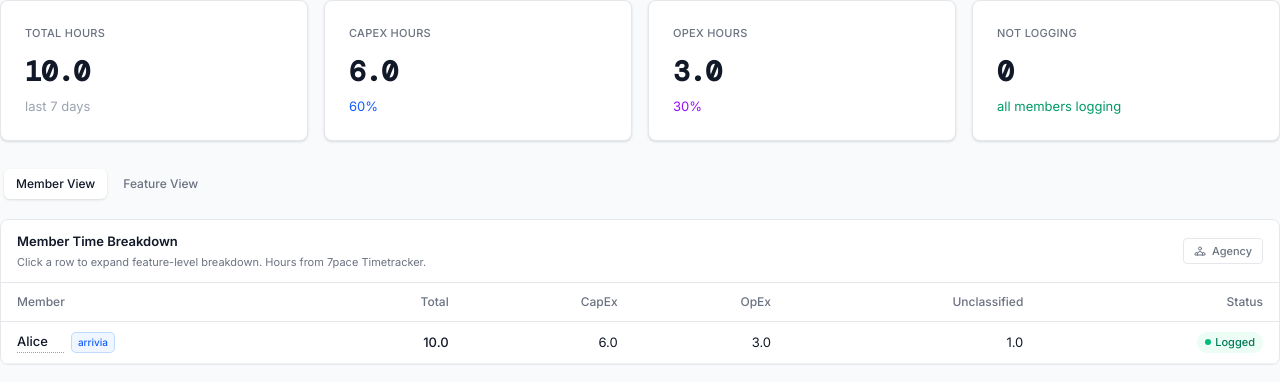
Scenario: TimeTrackingTab — agency filter dropdown › does not show dropdown on Feature View
The image size is (1280, 382).
Expected: the heading "Member Time Breakdown" is shown, [17,233,178,249]
Switch to Feature View
Click the button "Feature View". click: (161, 184)
box: [111,169,210,199]
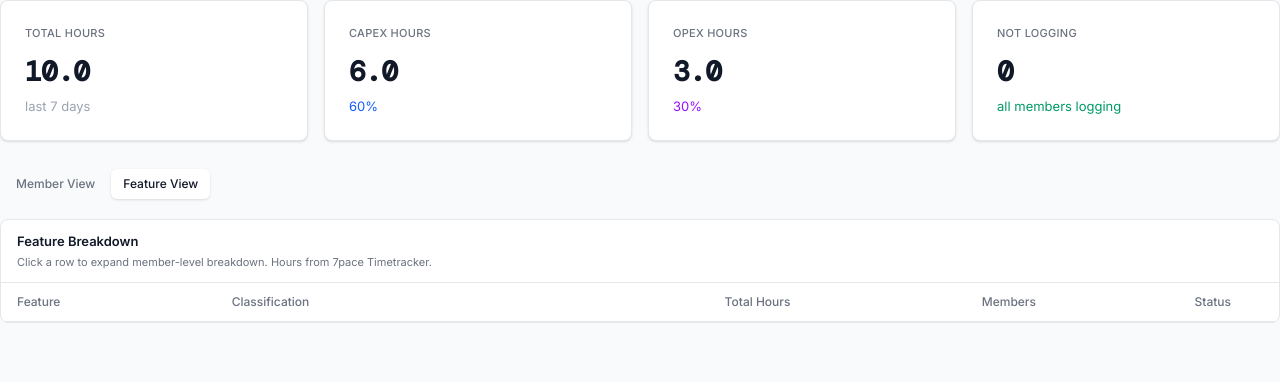
Now the heading "Feature Breakdown" is shown, box [17,233,138,249]
Now the button "Agency" is gone
